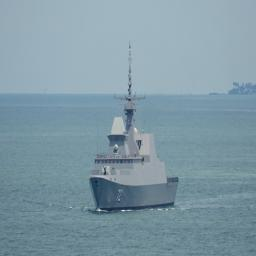Fragata: (88, 42, 180, 214)
